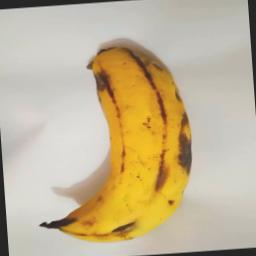Banana Unripe: (22, 33, 200, 246)
